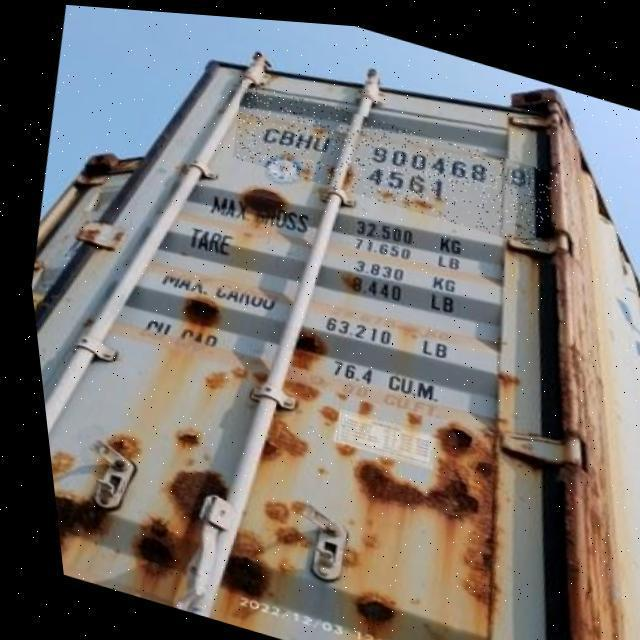container_number_h: (222, 75, 564, 244)
